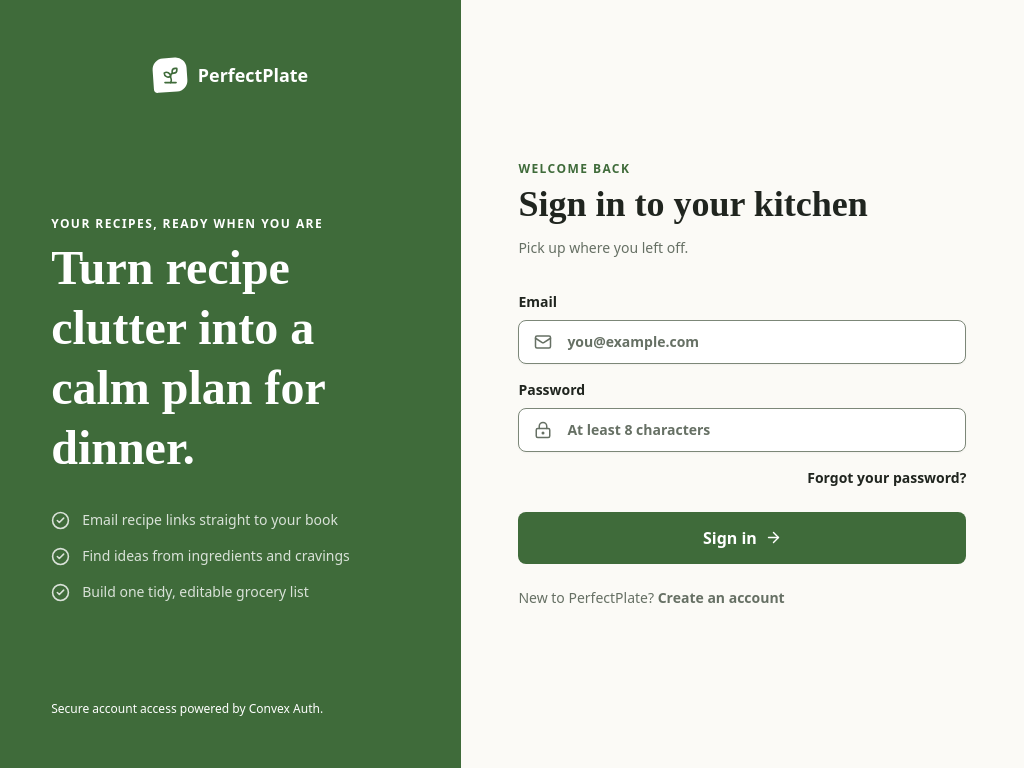
Test: AuthForm › does not expose unexpected backend error details
Type "cook@example.com" into the field labelled "Email" at coordinates (742, 342), box [518, 320, 966, 364]
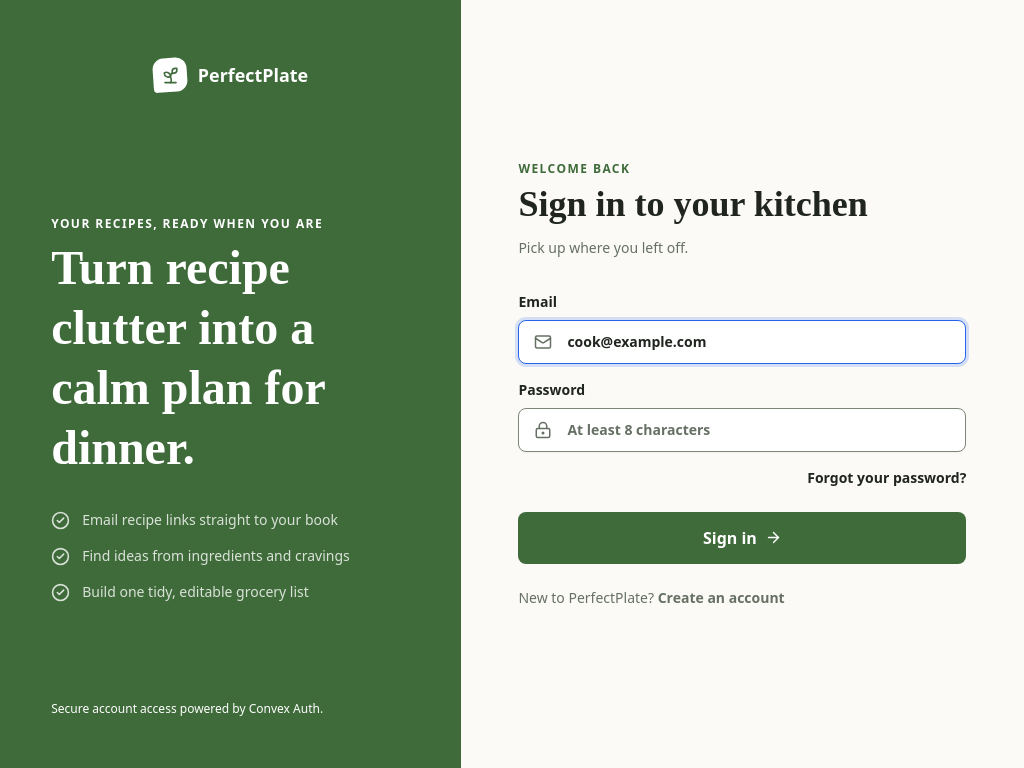
Type "password123" into the password field labelled "Password" at coordinates (742, 430), box [518, 408, 966, 452]
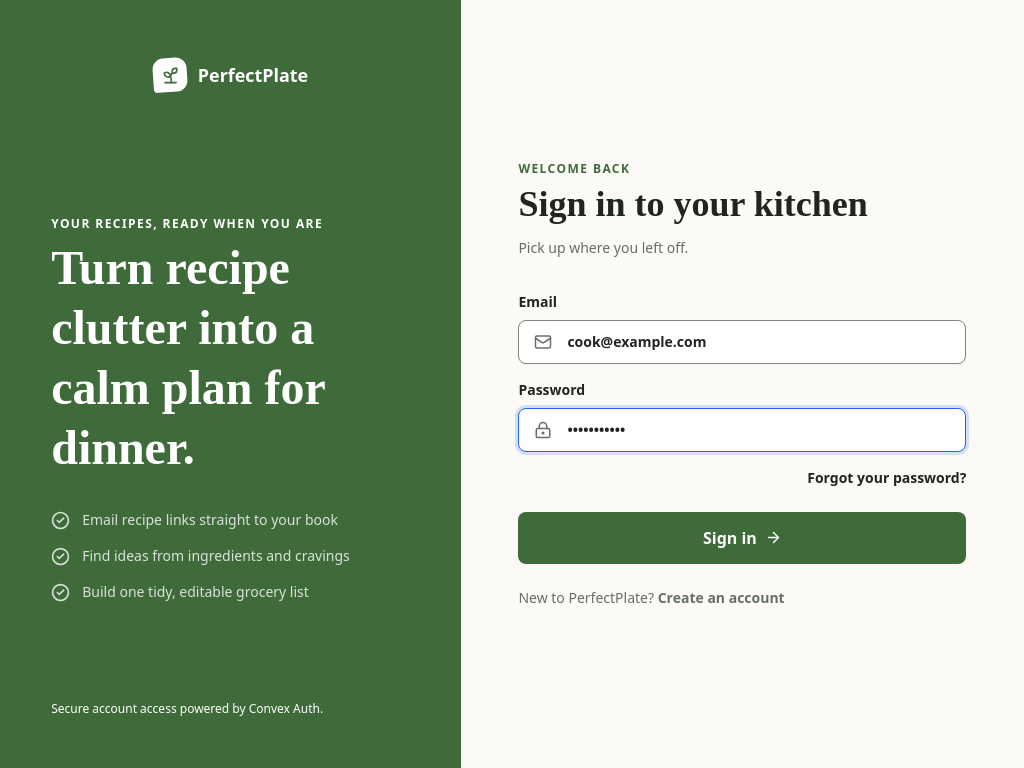
Click the button "Sign in" at coordinates (742, 538), box [518, 512, 966, 564]
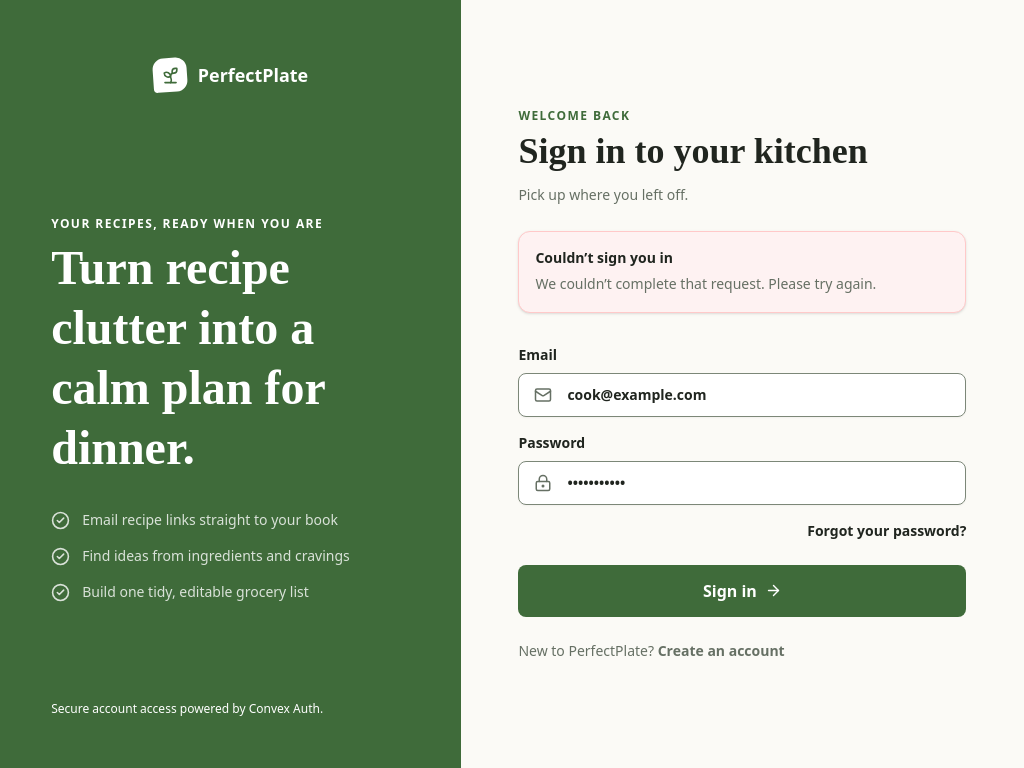
Expected: the button "Sign in" is enabled, [518, 565, 966, 617]
Now the message shows "We couldn’t complete that request. Please try again.", box [535, 274, 876, 293]
